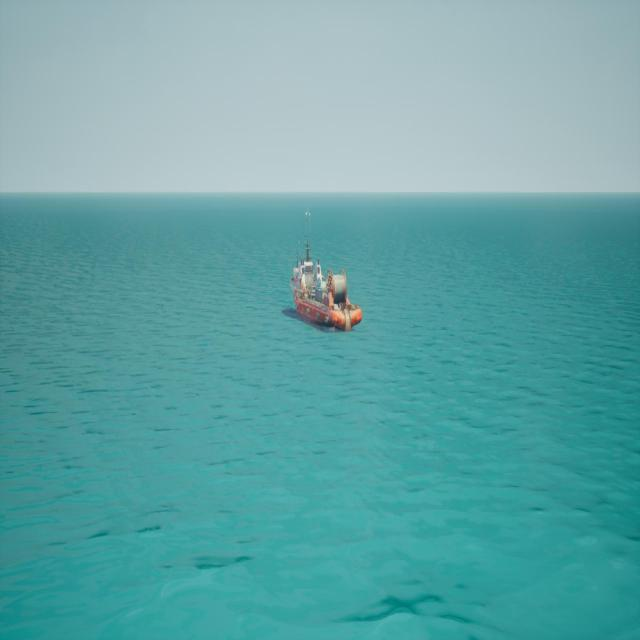tug boat: (291, 214, 360, 333)
